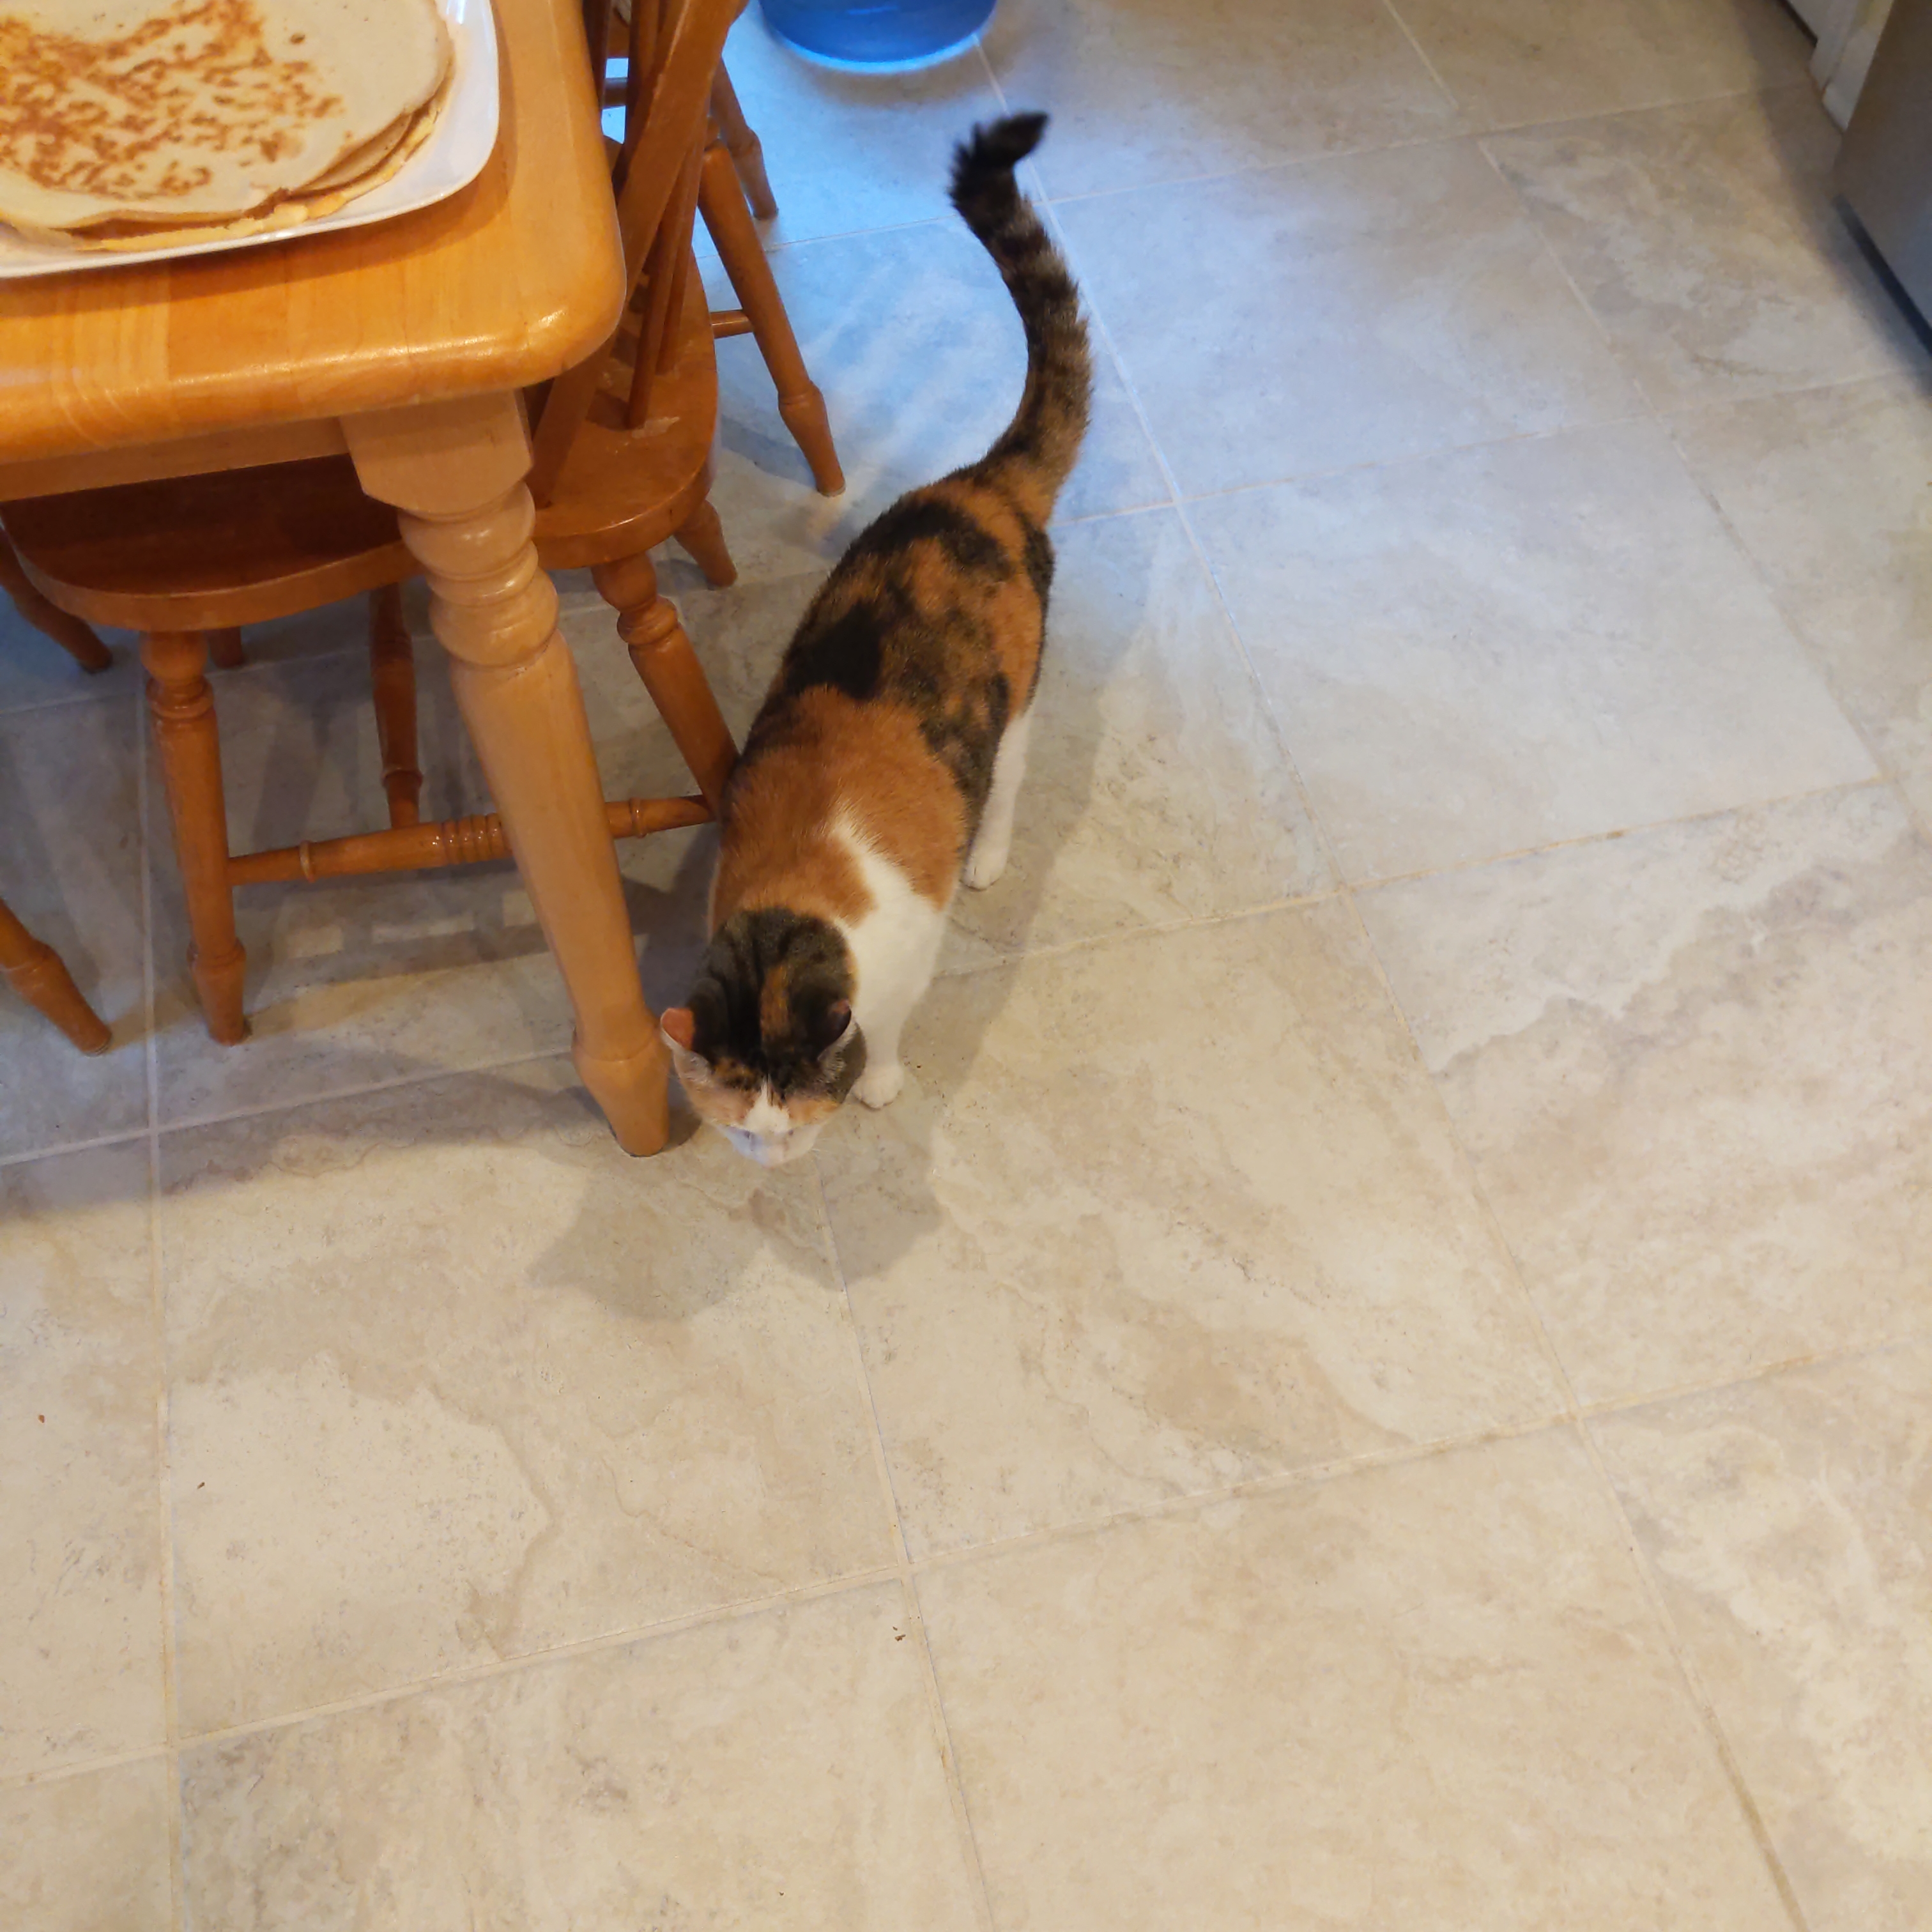Calico: (660, 113, 1095, 1169)
